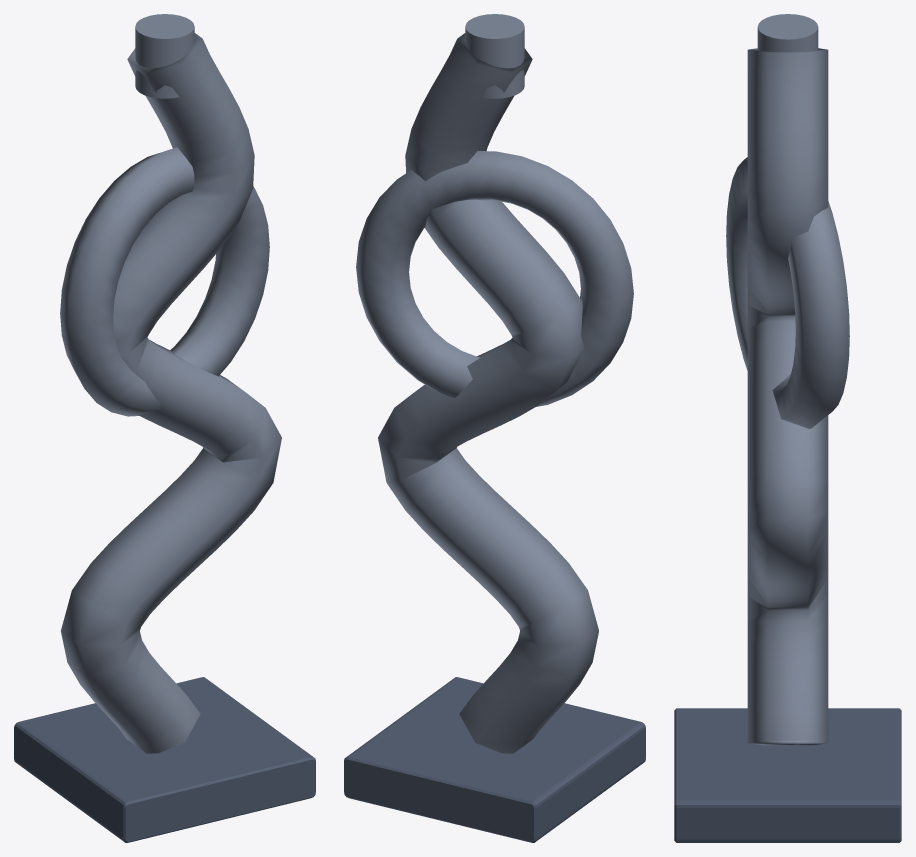
The model's file is 落地雕塑-lite.glb.
The picture shows the model from 3 angles, left to right: view 1: azimuth 30°, elevation 25°; view 2: azimuth 150°, elevation 25°; view 3: azimuth 270°, elevation 25°; orthographic projection. The views are drawn at different scales.
Parts seen in each view (by area): view 1: body, dark, accent; view 2: body, accent, dark; view 3: body, dark, accent.
Boxes of the visible parts, x1=… form: body: x1=61, y1=14, x2=281, y2=753; dark: x1=14, y1=677, x2=315, y2=842; accent: x1=60, y1=147, x2=269, y2=416; body: x1=378, y1=14, x2=598, y2=753; accent: x1=356, y1=151, x2=633, y2=406; dark: x1=344, y1=677, x2=645, y2=842; body: x1=747, y1=14, x2=828, y2=745; dark: x1=674, y1=708, x2=901, y2=842; accent: x1=726, y1=157, x2=849, y2=428.
Bounding box in the file's own units: 0.3305 × 1.01 × 0.27.
